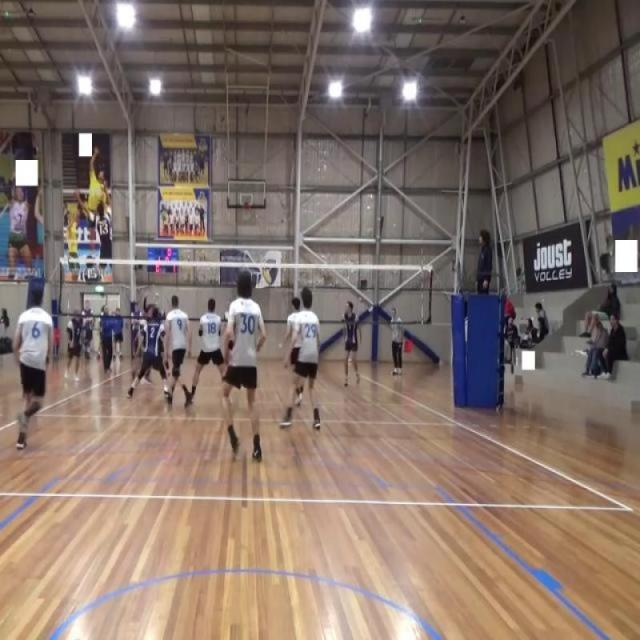volleyball: (161, 208, 170, 223)
